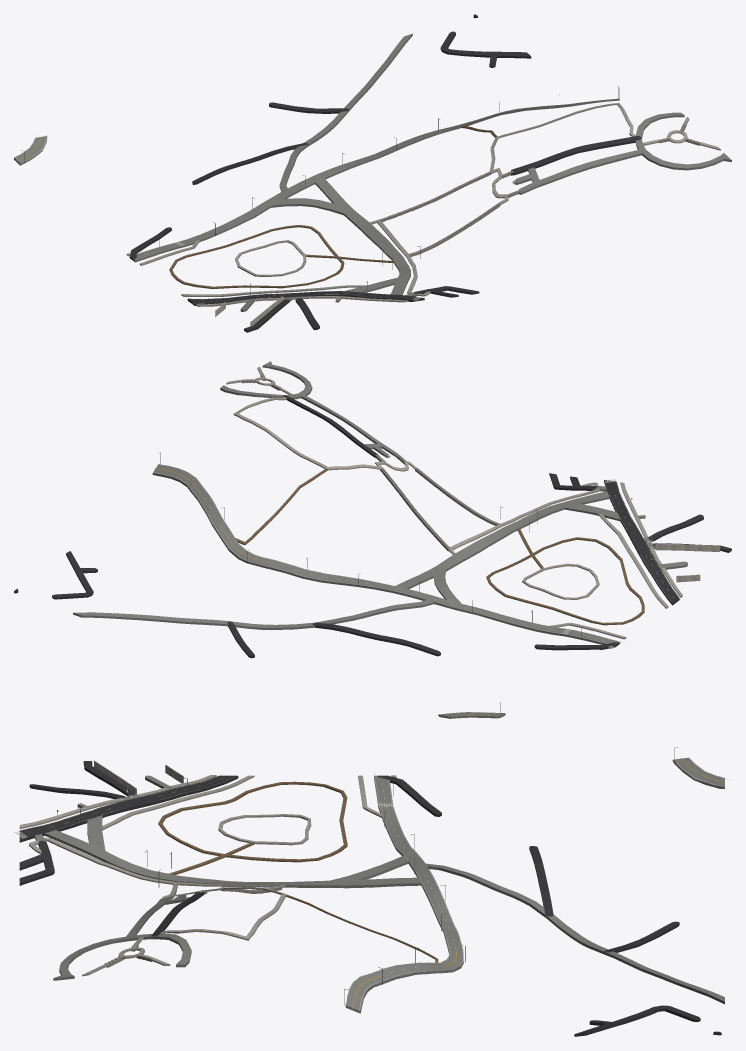
The picture shows the model from 3 angles, top to bottom: view 1: azimuth 30°, elevation 25°; view 2: azimuth 150°, elevation 25°; view 3: azimuth 270°, elevation 25°; orthographic projection. The views are drawn at different scales.
Bounding box in the file's own units: 299 × 54.76 × 297.
